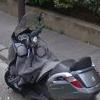Motorcycle: (4, 15, 99, 100)
